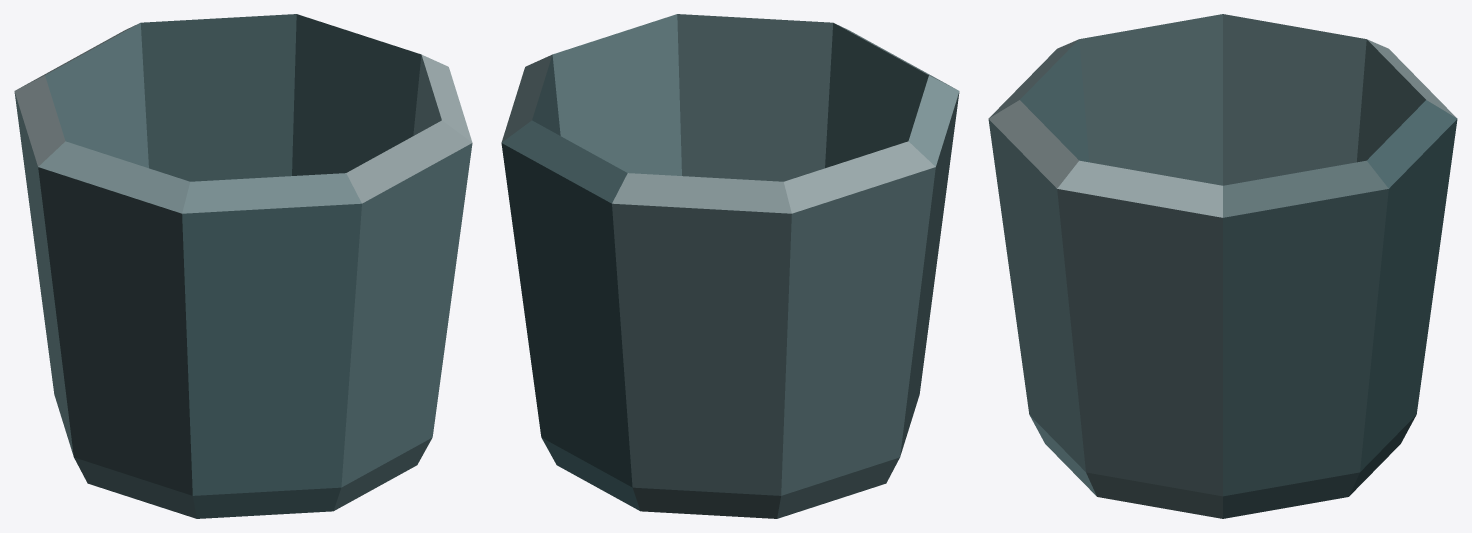
File: Decor_Bucket.fbx
3 renders of one model, left to right at view 1: azimuth 30°, elevation 25°; view 2: azimuth 150°, elevation 25°; view 3: azimuth 270°, elevation 25°, orthographic.
Visible parts, largest first — view 1: Decor_Bucket; view 2: Decor_Bucket; view 3: Decor_Bucket.
Boxes of the visible parts, x1,y1,x2,y2 form: Decor_Bucket: [14, 14, 472, 518]; Decor_Bucket: [501, 14, 959, 518]; Decor_Bucket: [988, 14, 1457, 518].
Bounding box in the file's own units: 43.27 × 35 × 43.27.
